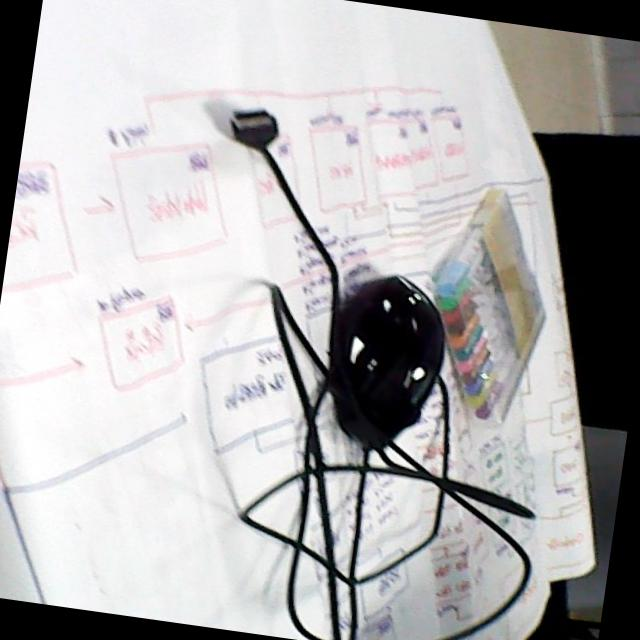mouse: (323, 258, 454, 462)
